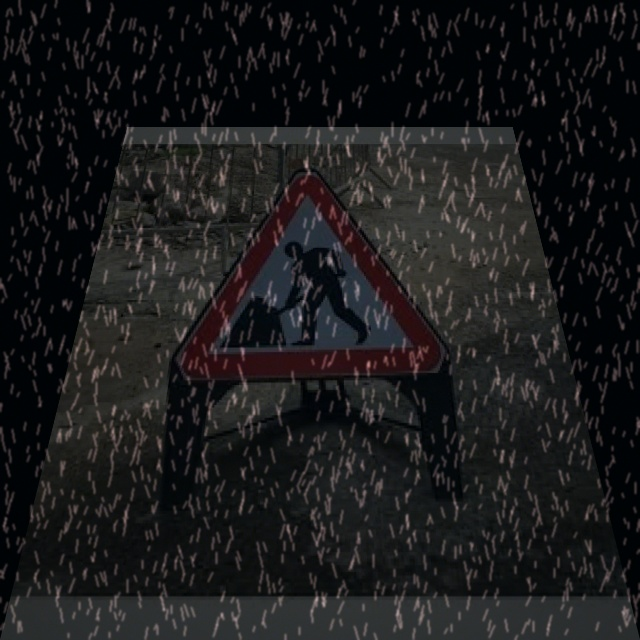Men_at_Work: (167, 166, 451, 375)
